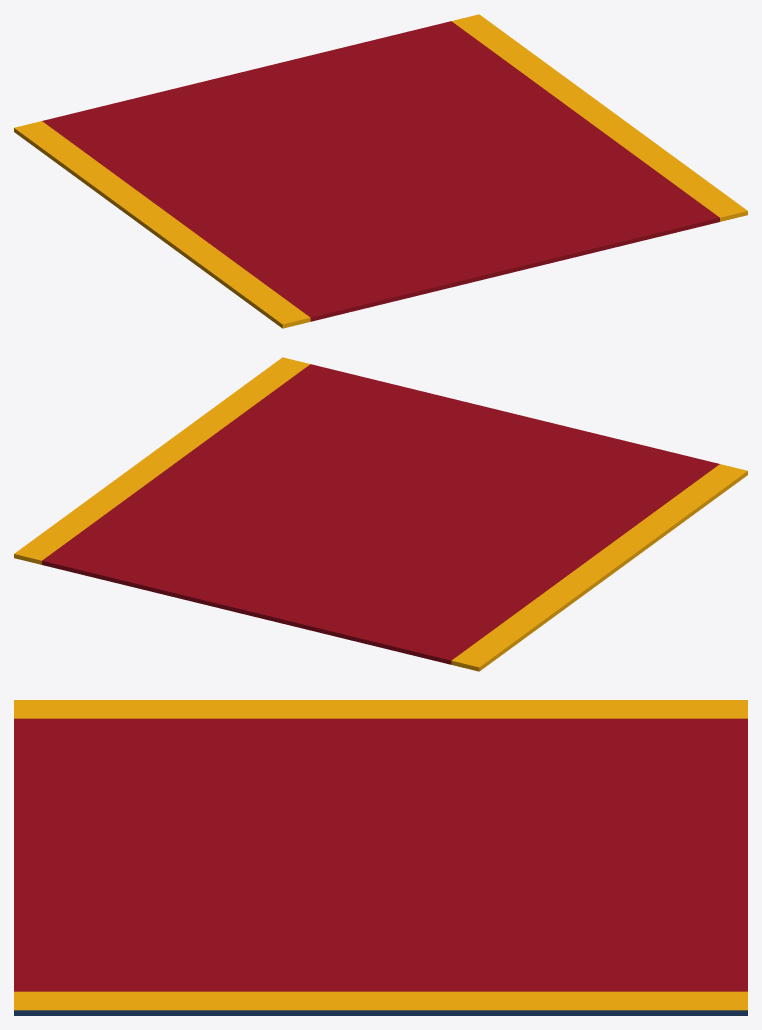
File: 1_tham1.fbx
3 renders of one model, top to bottom at view 1: azimuth 30°, elevation 25°; view 2: azimuth 150°, elevation 25°; view 3: azimuth 270°, elevation 25°, orthographic. The views are drawn at different scales.
Parts seen in each view (by area): view 1: tham1; view 2: tham1; view 3: tham1.
Part boxes in pixels (x1,y1,x2,y2): tham1: (14, 14, 747, 328); tham1: (14, 357, 747, 671); tham1: (14, 700, 747, 1015).
Bounding box in the file's own units: 200 × 1.73 × 200.
